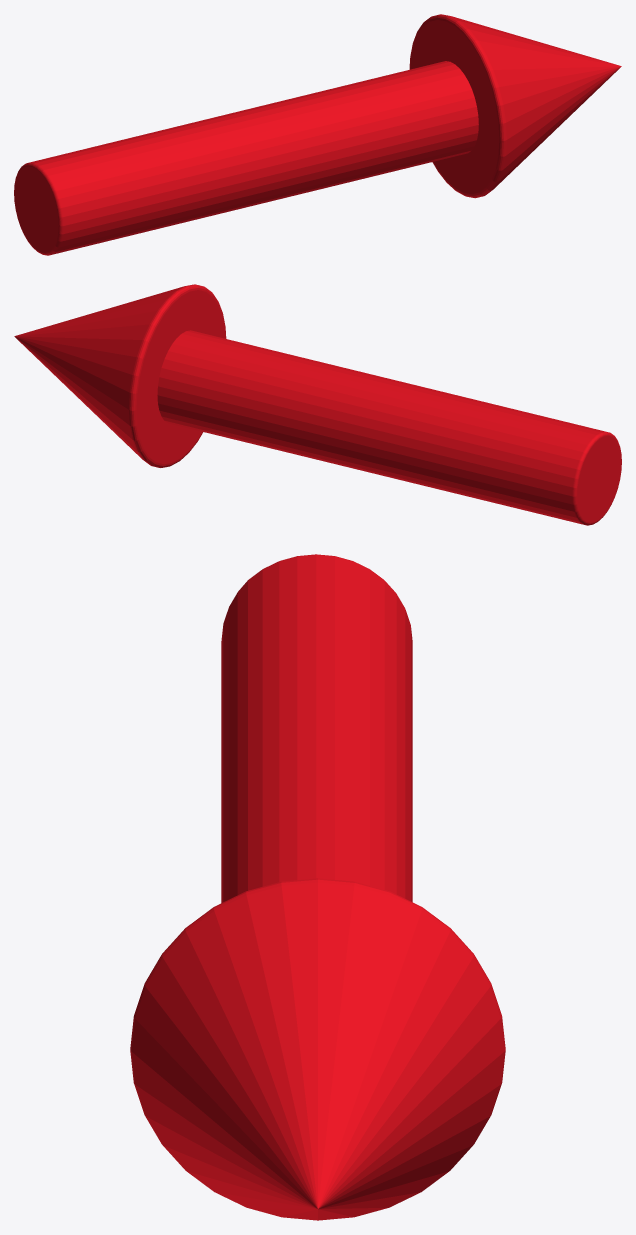
The model's file is arrow.glb.
3 renders of one model, top to bottom at view 1: azimuth 30°, elevation 25°; view 2: azimuth 150°, elevation 25°; view 3: azimuth 270°, elevation 25°, orthographic. The views are drawn at different scales.
Visible parts, largest first — view 1: Pointer; view 2: Pointer; view 3: Pointer.
Part boxes in pixels (x1,y1,x2,y2): Pointer: (14,14,621,255); Pointer: (14,284,621,525); Pointer: (130,554,505,1220).
Size of the model in its own units: 0.14 by 0.0389 by 0.0389.
